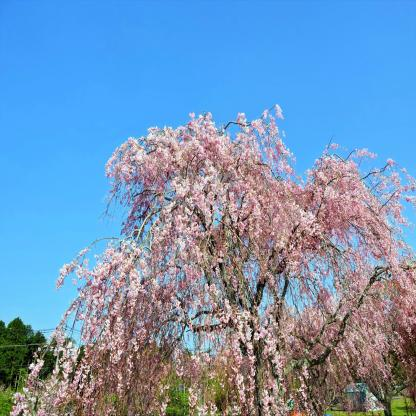ShidareZakura: (9, 104, 416, 416)
